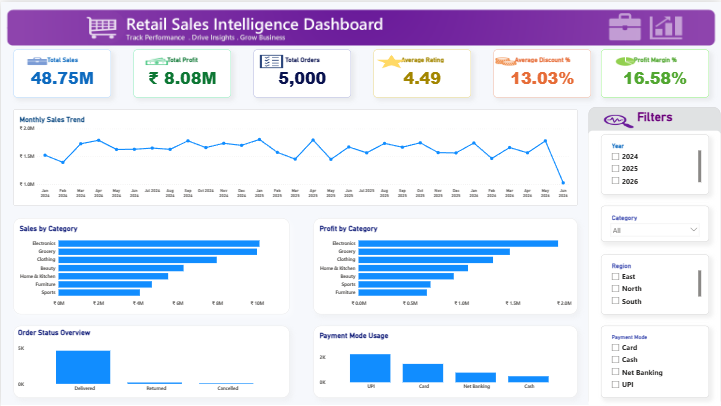

Layout of this report page (visuals, bound fields, positions):
{"tool":"powerbi","page":{"name":"Executive Overveiw","canvas":[1920,1080],"ordinal":0},"visuals":[{"type":"card","title":"Total Sales","fields":{"Values":["Sum(Retail_Sales_Master.Sales)"]},"box":[72,96,216,120],"z":0},{"type":"card","title":"Total Profit","fields":{"Values":["📊 Measures.Total Profit"]},"box":[288,96,216,120],"z":1000},{"type":"card","title":"Total Orders","fields":{"Values":["📊 Measures.Total Orders"]},"box":[504,96,192,120],"z":2000},{"type":"card","title":"Average Rating","fields":{"Values":["📊 Measures.Average Rating"]},"box":[696,96,216,120],"z":3000},{"type":"card","title":"Average Discount %","fields":{"Values":["📊 Measures.Average Discount %"]},"box":[912,96,216,120],"z":4000},{"type":"card","title":"Profit Margin %","fields":{"Values":["📊 Measures.Profit Margin %"]},"box":[1128,96,216,120],"z":5000},{"type":"textbox","title":"Retail Sales Intelligence Dashboard","box":[16,6,1660,70],"z":6000},{"type":"lineChart","title":"Monthly Sales Trend","fields":{"Category":["Retail_Sales_Master.Month Year"],"Y":["📊 Measures.Total Sales"]},"box":[32,224,1296,320],"z":7000},{"type":"slicer","fields":{"Values":["Retail_Sales_Master.Region"]},"box":[1488,384,192,176],"z":8000},{"type":"slicer","fields":{"Values":["Retail_Sales_Master.Category"]},"box":[1456,224,192,160],"z":9000},{"type":"slicer","fields":{"Values":["Retail_Sales_Master.Payment_Mode"]},"box":[1328,384,160,176],"z":10000},{"type":"slicer","fields":{"Values":["Retail_Sales_Master.Year"]},"box":[1328,224,128,160],"z":11000},{"type":"barChart","title":"Sales by Category","fields":{"Category":["Retail_Sales_Master.Category"],"Y":["Sum(Retail_Sales_Master.Sales)"]},"box":[32,560,672,272],"z":12000},{"type":"barChart","title":"Profit by Category","fields":{"Category":["Retail_Sales_Master.Category"],"Y":["Sum(Retail_Sales_Master.Profit)"]},"box":[848,560,720,272],"z":13000},{"type":"columnChart","title":"Payment Mode Usage","fields":{"Category":["Retail_Sales_Master.Payment_Mode"],"Y":["CountNonNull(Retail_Sales_Master.Customer_ID)"]},"box":[864,832,544,240],"z":14000},{"type":"columnChart","title":"Order Status Overview","fields":{"Category":["Retail_Sales_Master.Order_Status"],"Y":["CountNonNull(Retail_Sales_Master.Customer_ID)"]},"box":[48,848,608,224],"z":15000}]}

Visuals, with their boxes in screenshot pixels (x1, y1, x2, y2), scaled from the page's 1920x1080 canvas onto the 721x406 screenshot:
"Total Sales" card: 27, 36, 108, 81
"Total Profit" card: 108, 36, 189, 81
"Total Orders" card: 189, 36, 261, 81
"Average Rating" card: 261, 36, 342, 81
"Average Discount %" card: 342, 36, 424, 81
"Profit Margin %" card: 424, 36, 505, 81
"Retail Sales Intelligence Dashboard" textbox: 6, 2, 629, 29
"Monthly Sales Trend" lineChart: 12, 84, 499, 205
slicer - Retail_Sales_Master.Region: 559, 144, 631, 211
slicer - Retail_Sales_Master.Category: 547, 84, 619, 144
slicer - Retail_Sales_Master.Payment_Mode: 499, 144, 559, 211
slicer - Retail_Sales_Master.Year: 499, 84, 547, 144
"Sales by Category" barChart: 12, 211, 264, 313
"Profit by Category" barChart: 318, 211, 589, 313
"Payment Mode Usage" columnChart: 324, 313, 529, 403
"Order Status Overview" columnChart: 18, 319, 246, 403
